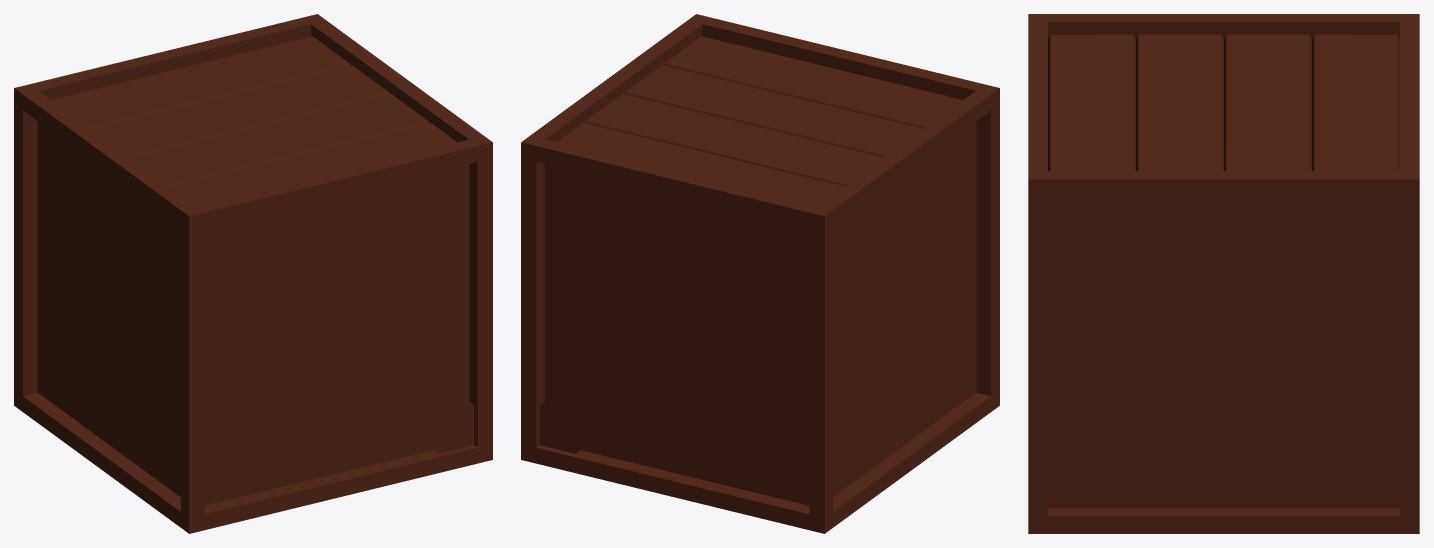
File: Large Crate.obj
3 renders of one model, left to right at view 1: azimuth 30°, elevation 25°; view 2: azimuth 150°, elevation 25°; view 3: azimuth 270°, elevation 25°, orthographic. The views are drawn at different scales.
Visible parts, largest first — view 1: Large_Crate; view 2: Large_Crate; view 3: Large_Crate.
Boxes of the visible parts, <box> form: Large_Crate: <box>14,14,492,533</box>; Large_Crate: <box>521,14,999,533</box>; Large_Crate: <box>1028,14,1419,533</box>.
Bounding box in the file's own units: 1 × 1 × 1.
